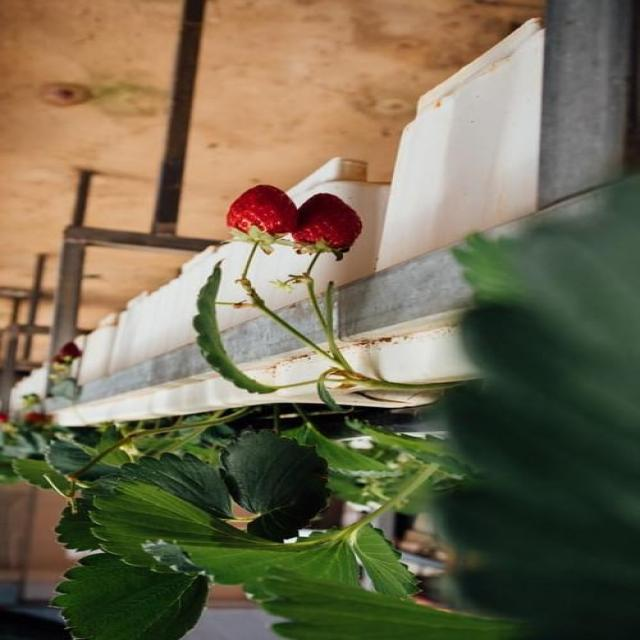mature: (292, 194, 364, 247), (226, 184, 298, 236)
